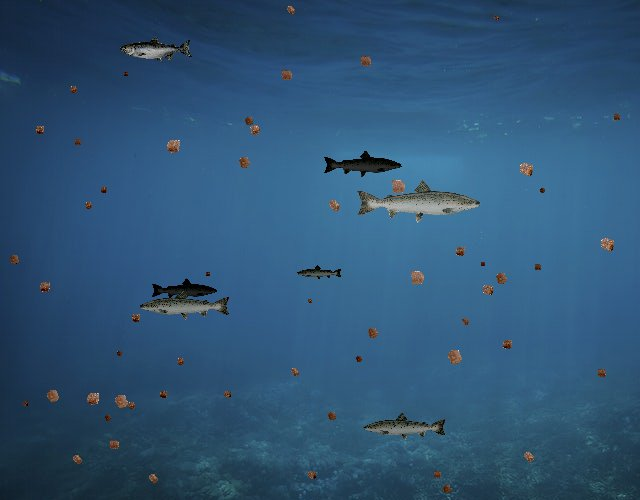Fish: (354, 178, 483, 224), (139, 289, 233, 322), (362, 411, 448, 442), (323, 149, 404, 178), (121, 37, 194, 63), (150, 277, 218, 302), (297, 264, 344, 281)
Pellet: (159, 133, 187, 161), (322, 193, 346, 217), (232, 150, 256, 174), (243, 118, 266, 141), (4, 249, 25, 270), (80, 198, 96, 214), (536, 184, 549, 197), (19, 398, 31, 410)
